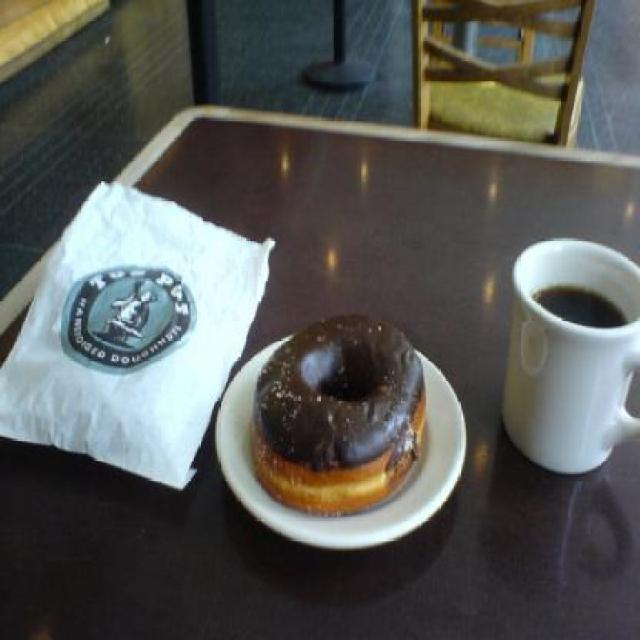Donuts: (253, 306, 436, 522)
